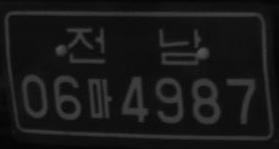0: (21, 74, 47, 119)
4: (121, 75, 148, 122)
6: (52, 74, 82, 120)
7: (226, 76, 256, 123)
8: (191, 77, 221, 124)
9: (155, 77, 183, 123)
마: (87, 77, 112, 118)
전남_D: (67, 27, 200, 65)
